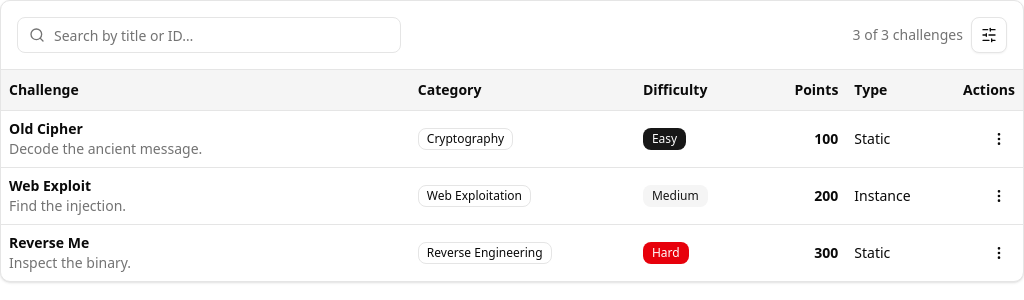
Test: admin challenge filters › searches by title and by ID
The width and height of the screenshot is (1024, 300).
In the search field named "Search challenges by title or ID": (209, 35) x1=17 y1=17 x2=401 y2=53, type "web"
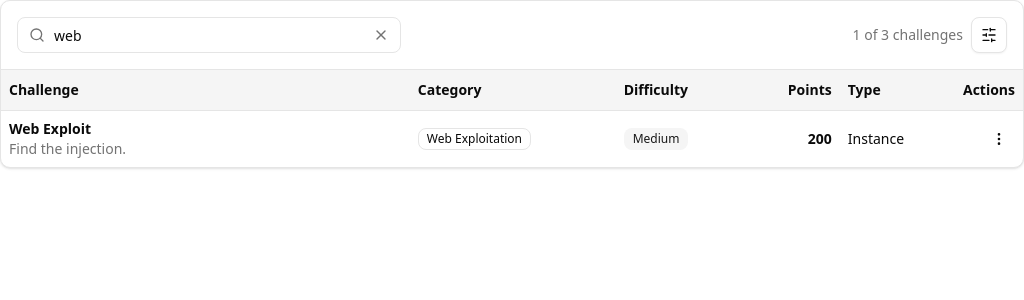
Expected: the text "Web Exploit" is shown, x1=9 y1=118 x2=91 y2=138
Result: the text "Old Cipher" is gone
Result: the text "1 of 3 challenges" is shown at x1=852 y1=25 x2=963 y2=45
Replace the text in the search field named "Search challenges by title or ID" with "rev-1": (209, 35) x1=17 y1=17 x2=401 y2=53
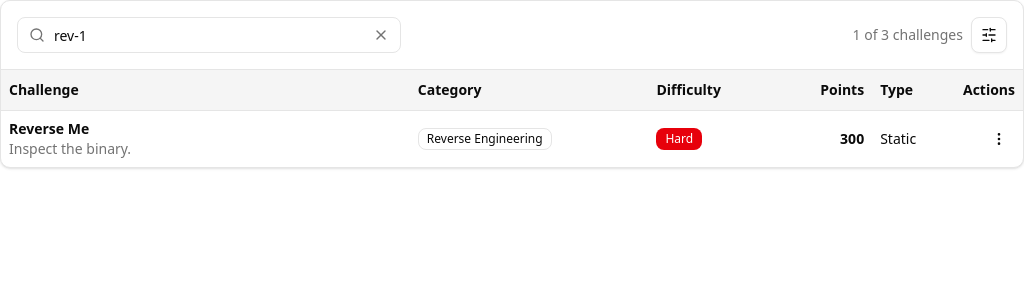
Result: the text "Reverse Me" is shown at x1=9 y1=118 x2=89 y2=138
Result: the text "Web Exploit" is gone
